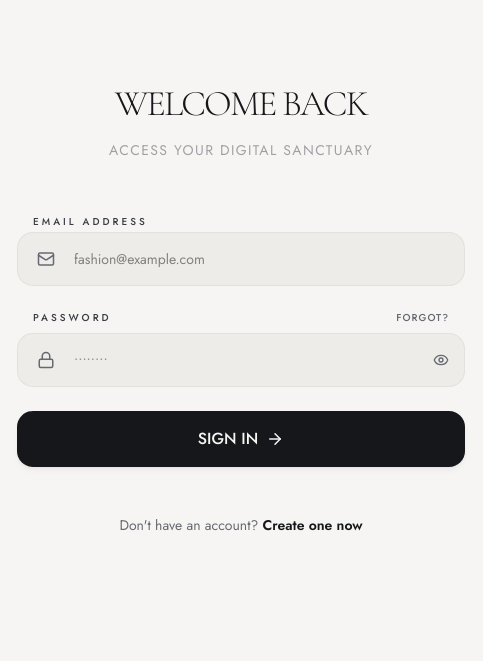
Test: signup failures are explained › a taken email shows the server message
Click the link "Create one now" at [313, 524], box [263, 514, 363, 534]
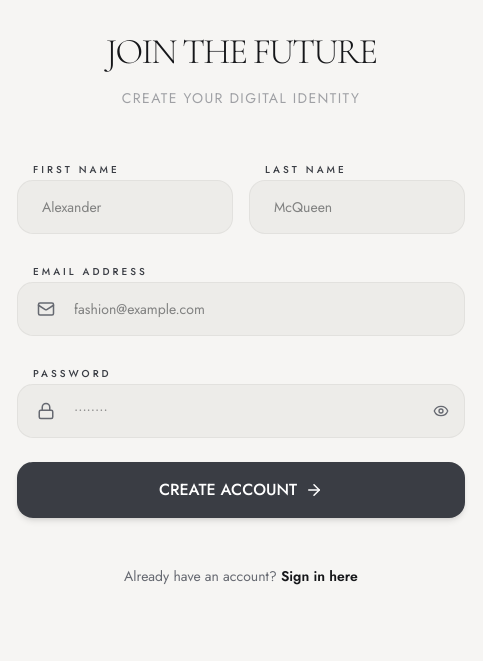
Type "new@example.com" into the field with placeholder "fashion@example.com" at [241, 309], box [17, 282, 465, 336]
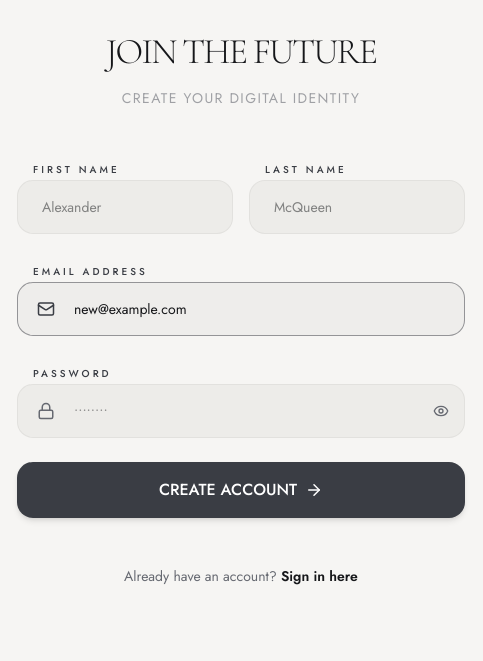
Type "Sup3r-secret-pw" into the password field with placeholder "••••••••" at [241, 411], box [17, 384, 465, 438]
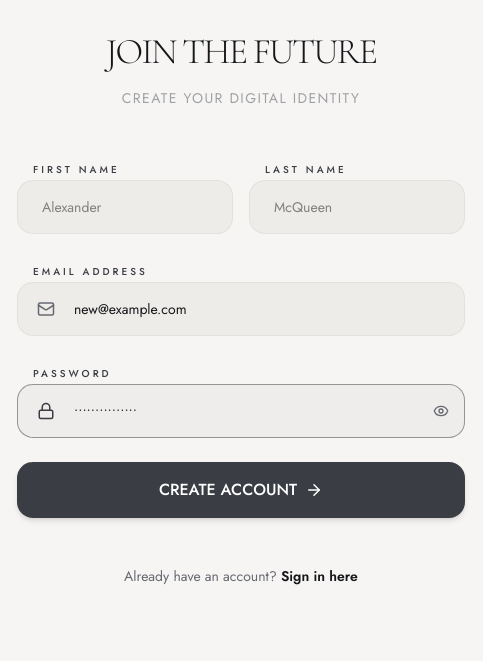
Click the button "CREATE ACCOUNT" at [241, 490], box [17, 462, 465, 518]
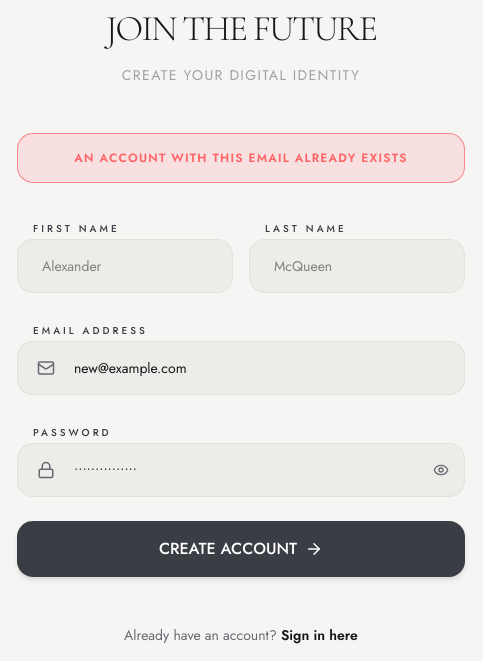
Check: the text "An account with this email already exists" is shown, box [17, 133, 465, 183]
